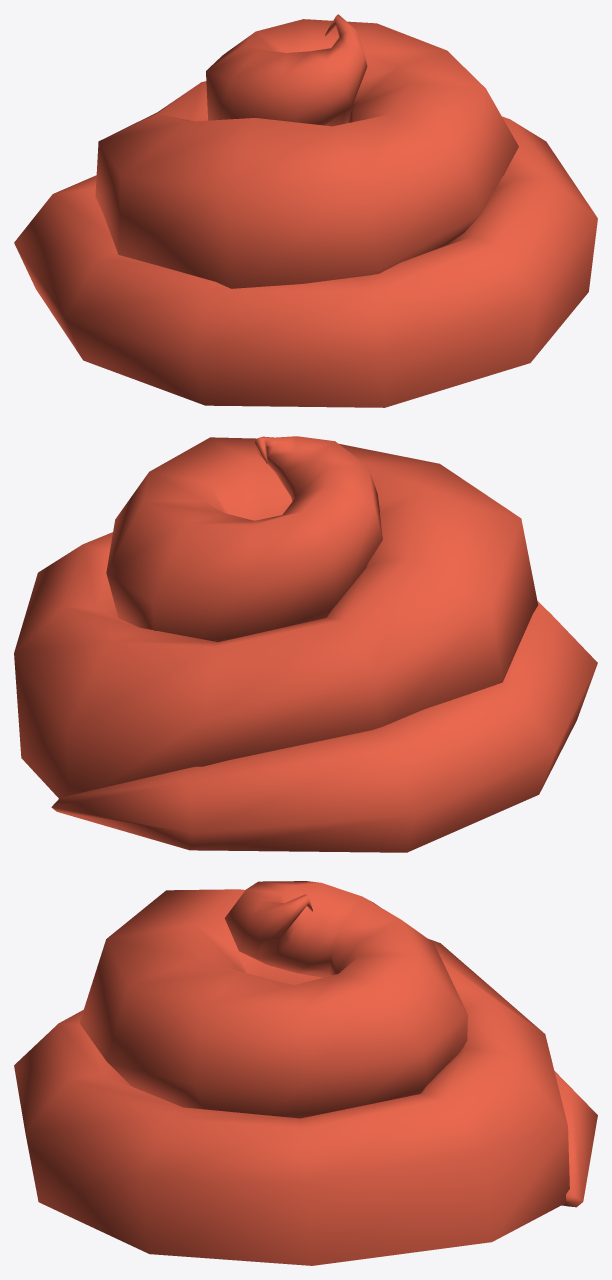
File: poop.fbx
3 views of the same model, one above another, from view 1: azimuth 30°, elevation 25°; view 2: azimuth 150°, elevation 25°; view 3: azimuth 270°, elevation 25° (orthographic). The views are drawn at different scales.
Parts seen in each view (by area): view 1: CurlyCurve.001; view 2: CurlyCurve.001; view 3: CurlyCurve.001.
Part boxes in pixels (box(x1,y1,x2,y2)): CurlyCurve.001: box(14, 14, 597, 407); CurlyCurve.001: box(14, 436, 597, 852); CurlyCurve.001: box(14, 881, 597, 1265).
Size of the model in its own units: 188 by 103 by 190.
